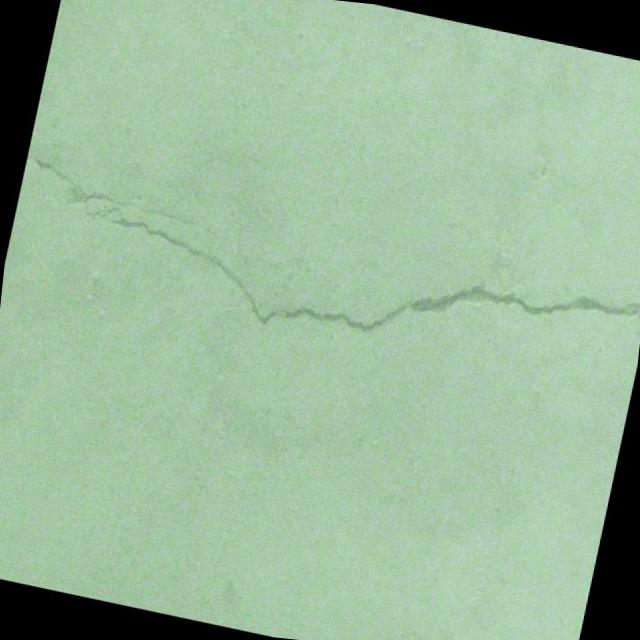crack: (0, 153, 640, 404)
